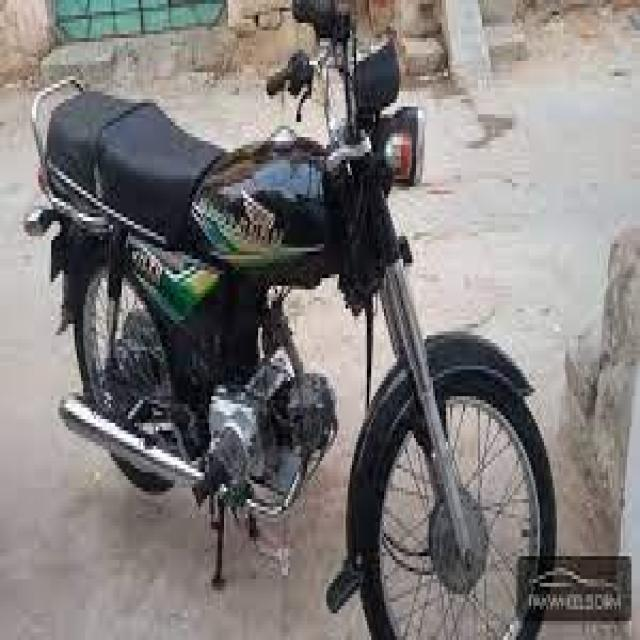motorcycle: (6, 6, 568, 638)
